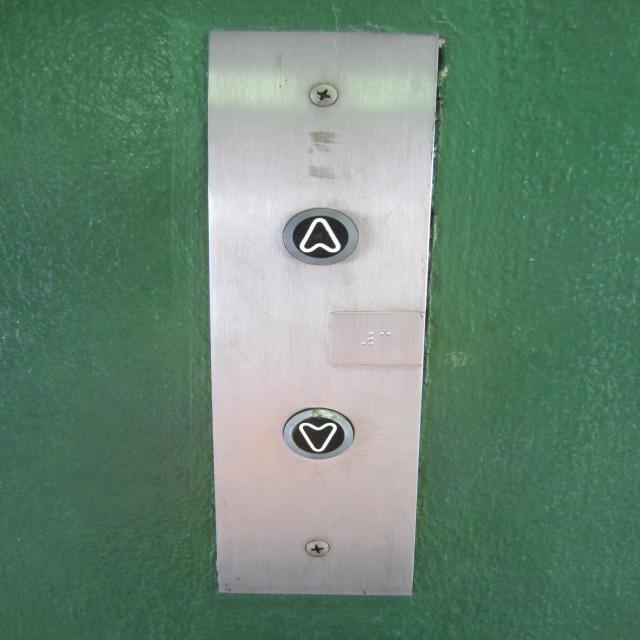down: (278, 403, 356, 463)
up: (279, 204, 361, 271)
